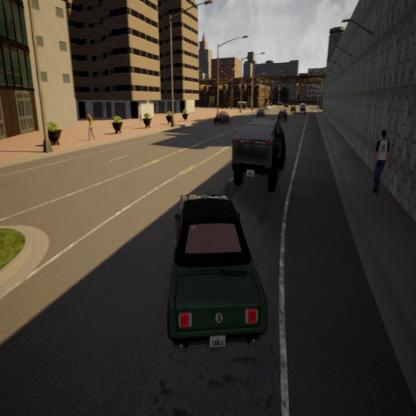Cars: (154, 176, 280, 359), (229, 103, 296, 196), (210, 106, 234, 128), (250, 98, 268, 122), (275, 102, 289, 126), (298, 99, 307, 120), (290, 99, 296, 118)
Pedestrian: (370, 120, 394, 203), (80, 101, 100, 158)
